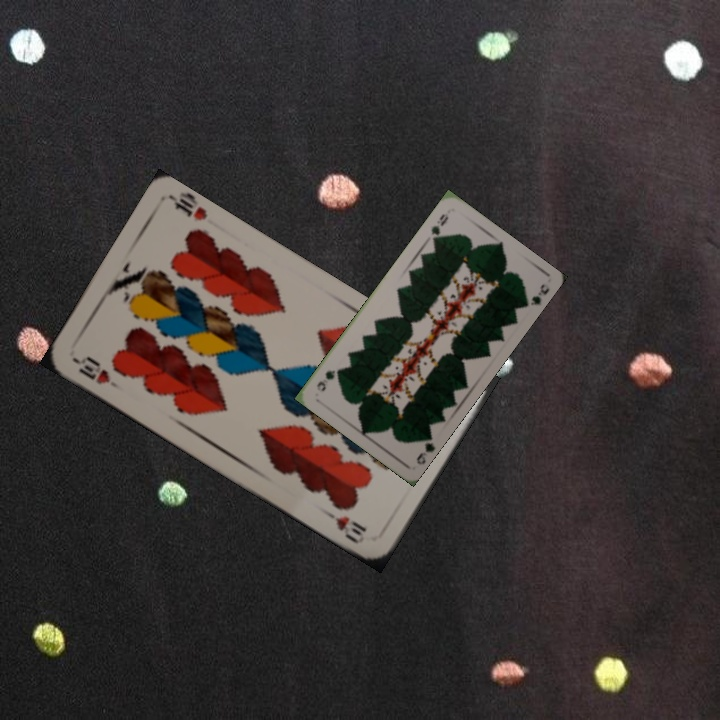G9: (412, 429, 437, 468), (427, 209, 451, 246)
H10: (70, 352, 124, 392)
